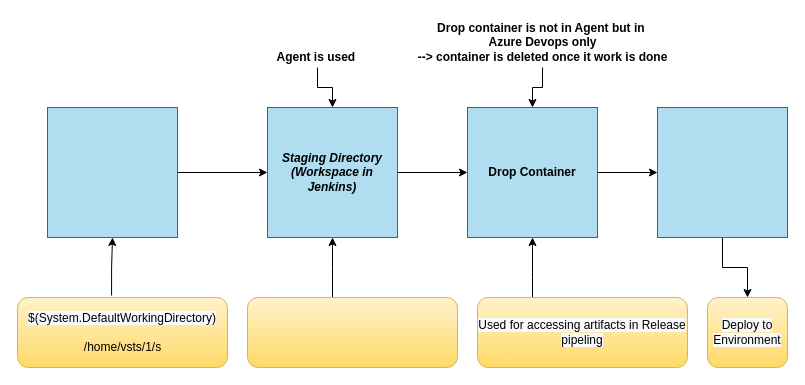
Image size: 805x385. Some labels were removed from this diagram. Here are the shapes that lost their labels. From the top down, the centre of each, then its label:
At [112,172]: "Azure Repos Githb Bitbucket".
At [722,172]: "Release Pipeline".
At [352,332]: "$(Build.ArtifactStagingDirectory) /home/vsts/1/a".
